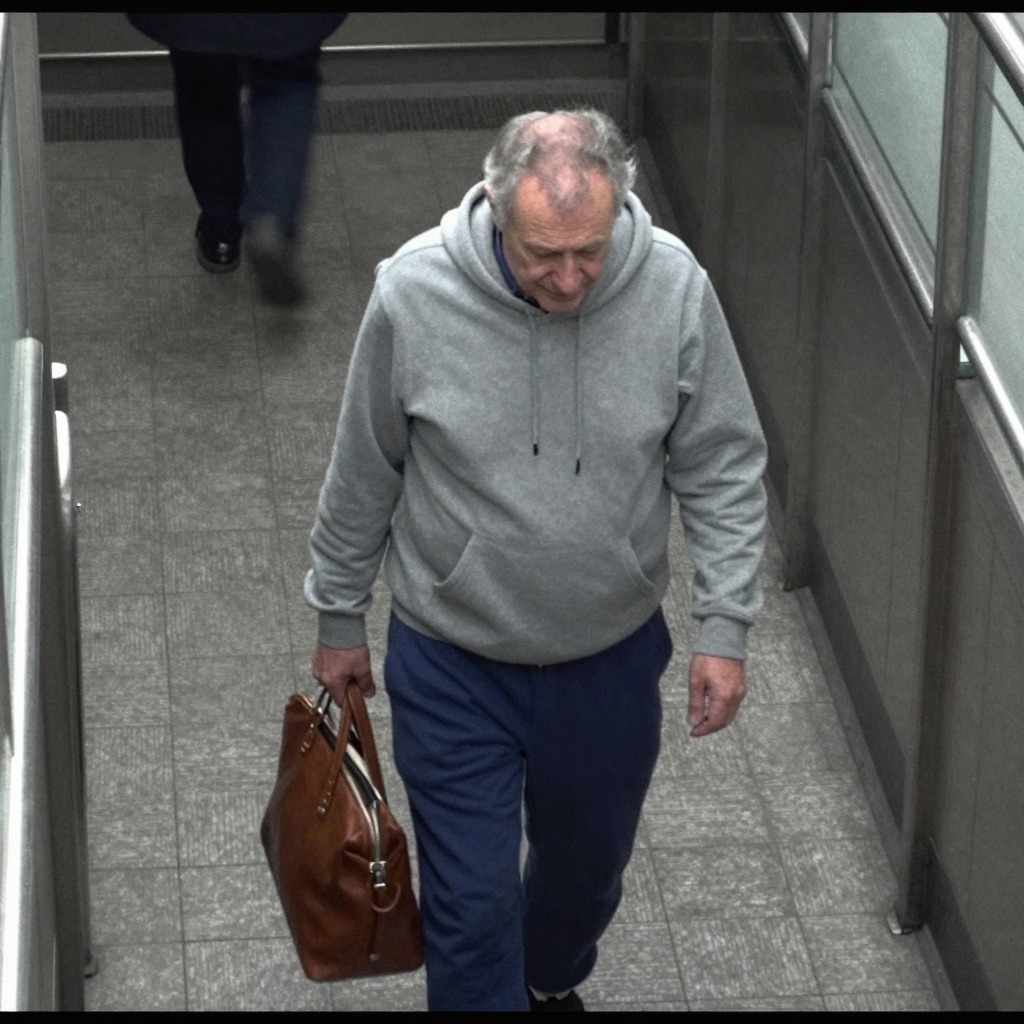Normal activity: (303, 107, 771, 1001), (125, 14, 349, 307)
